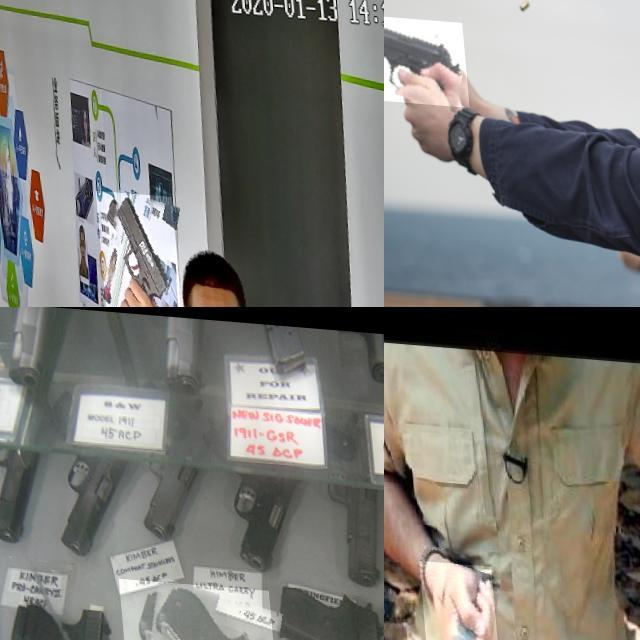-: (414, 557, 498, 640)
gun-knife-thesis - v11 Yolov5 augmented: (113, 575, 281, 640), (91, 185, 177, 307), (384, 10, 465, 103), (269, 579, 384, 640), (0, 595, 115, 640)
